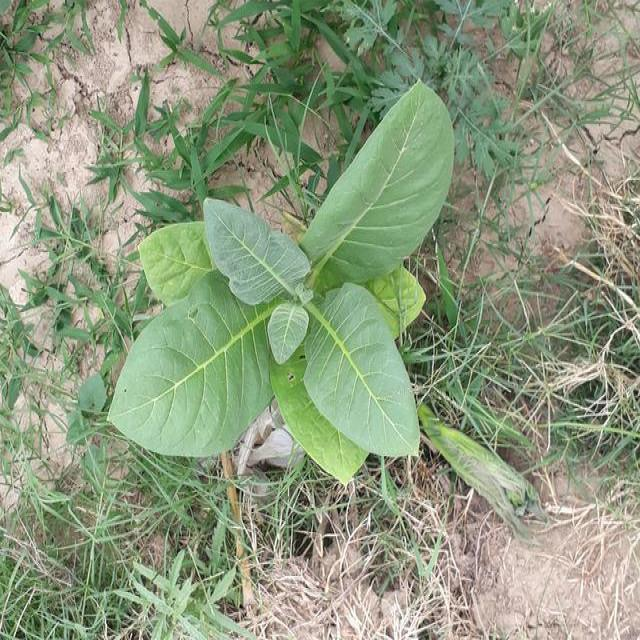crop: (110, 78, 458, 484)
